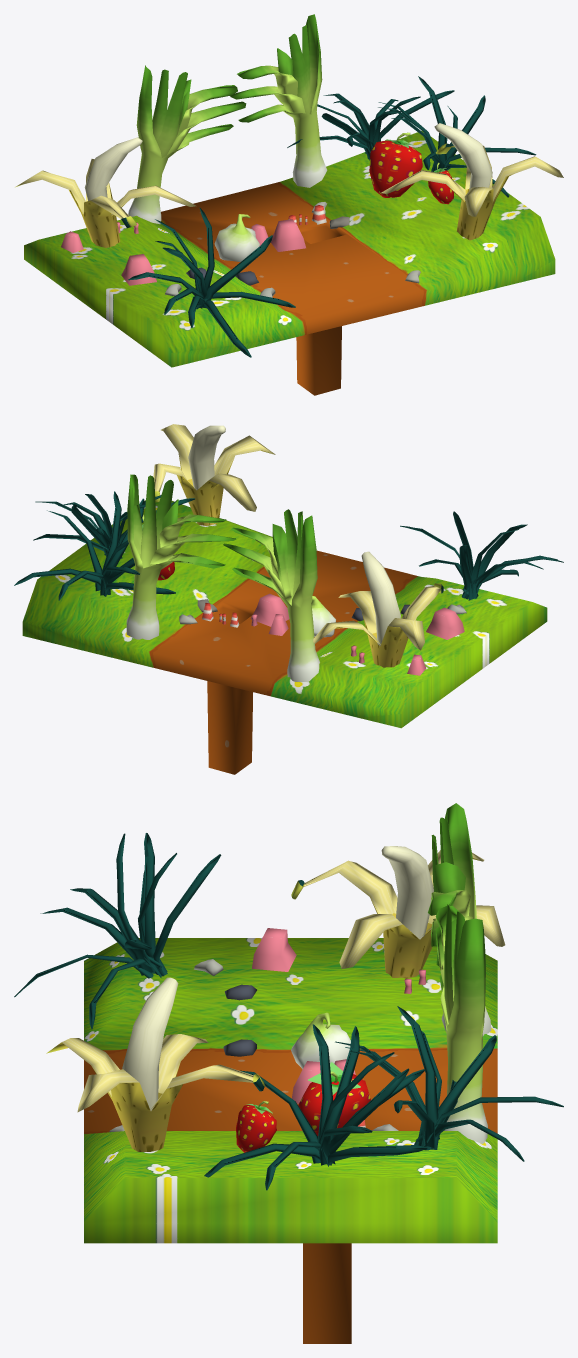
Rendered from D_block_06.FBX.
3 views of the same model, one above another, from view 1: azimuth 30°, elevation 25°; view 2: azimuth 150°, elevation 25°; view 3: azimuth 270°, elevation 25° (orthographic). The views are drawn at different scales.
Visible parts, largest first — view 1: Sol_trou_06; view 2: Sol_trou_06; view 3: Sol_trou_06.
Boxes of the visible parts, left/top/right/bottom form: Sol_trou_06: left=15, top=14, right=563, bottom=395; Sol_trou_06: left=14, top=424, right=563, bottom=774; Sol_trou_06: left=14, top=803, right=563, bottom=1343.
Bounding box in the file's own units: 10.55 × 7.21 × 7.97.
